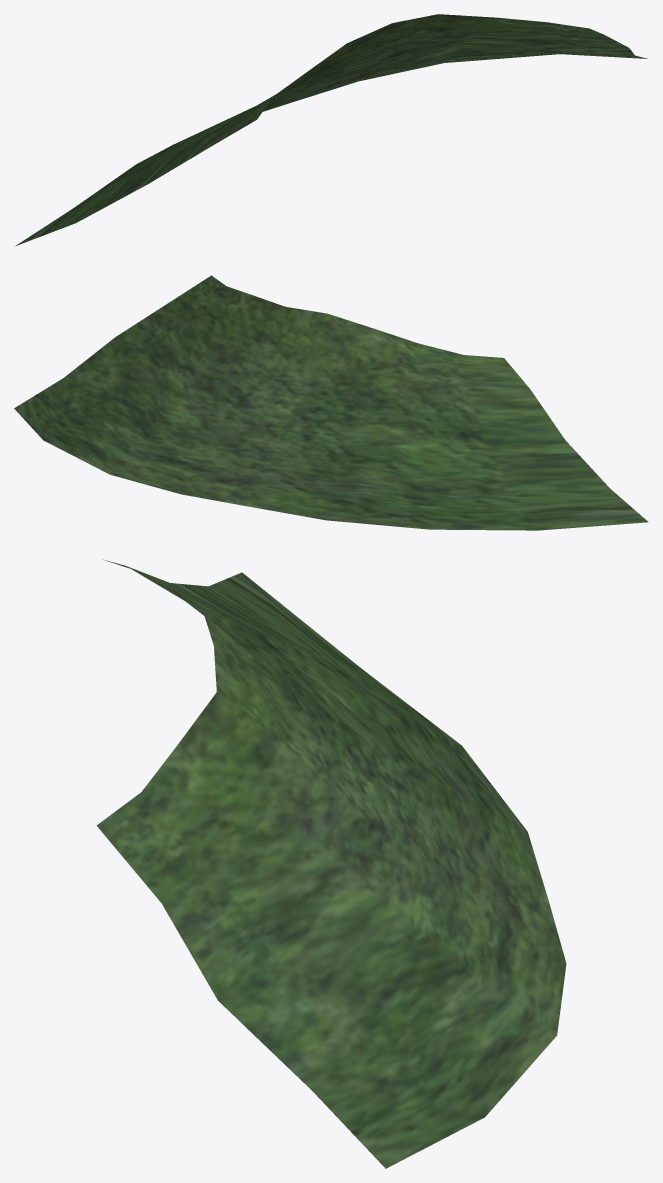
Rendered from gFAR_MOUNTAIN.obj.
The picture shows the model from 3 angles, top to bottom: view 1: azimuth 30°, elevation 25°; view 2: azimuth 150°, elevation 25°; view 3: azimuth 270°, elevation 25°; orthographic projection. The views are drawn at different scales.
Parts seen in each view (by area): view 1: loftedSurface1_0; view 2: loftedSurface1_0; view 3: loftedSurface1_0.
Boxes of the visible parts, <box> form: loftedSurface1_0: <box>15,14,647,246</box>; loftedSurface1_0: <box>14,275,648,530</box>; loftedSurface1_0: <box>96,559,566,1168</box>.
Bounding box in the file's own units: 11800 × 2457 × 4009.
